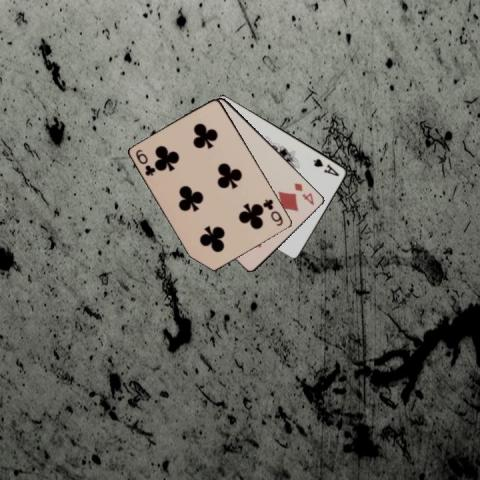4d: (291, 180, 316, 207)
6c: (260, 196, 284, 227), (133, 147, 157, 177)
As: (310, 156, 341, 177)
